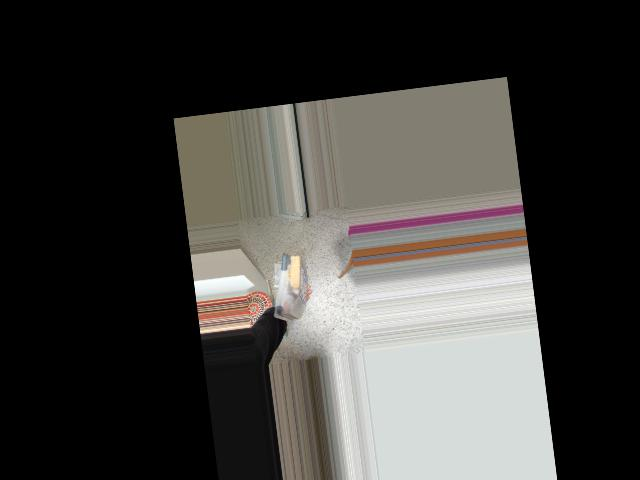cheese: (264, 250, 313, 321)
